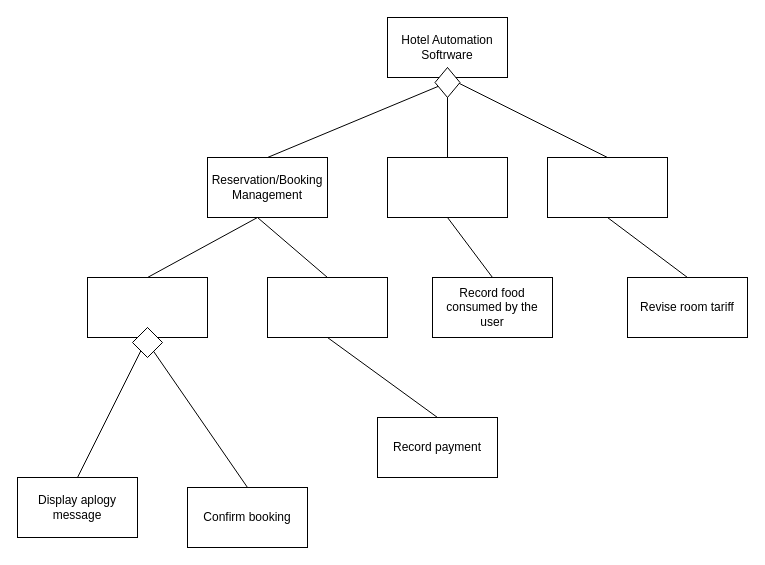
The diagram is 765 pixels wide and 565 high, and some of its shapes have lost their labels. Here are the shapes that lost their labels. From the top down, the centre of each, then its label:
At (x=447, y=187): "Food Management".
At (x=607, y=187): "Room Tariff Management".
At (x=147, y=307): "Check-in / record guest details".
At (x=327, y=307): "Check-out".
